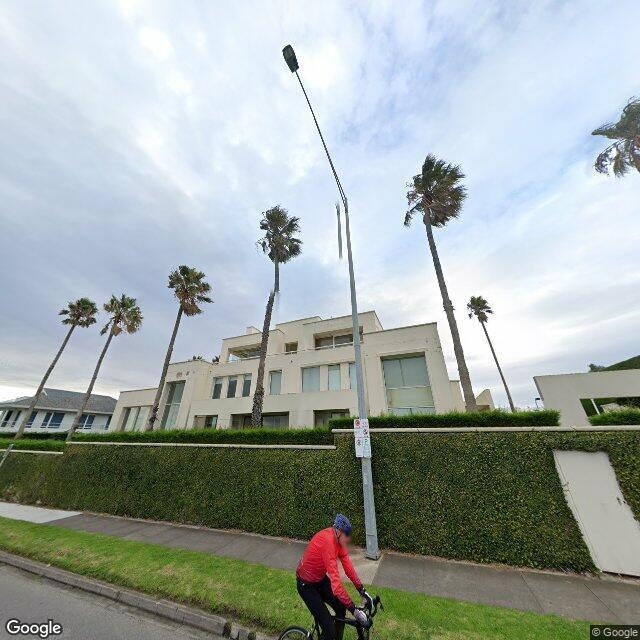steel-pole: (344, 202, 380, 559)
streetlight: (282, 44, 346, 210)
